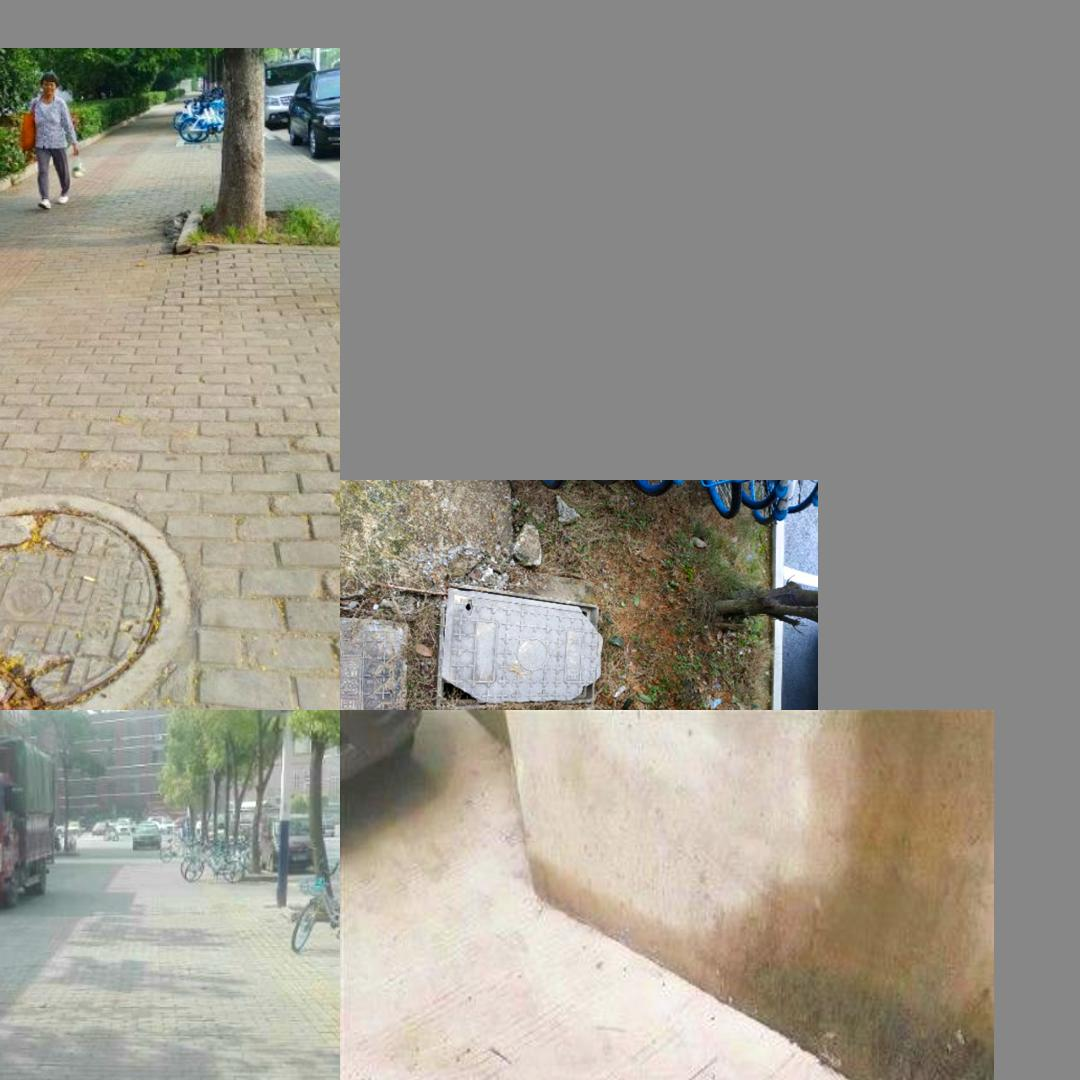broke: (0, 492, 192, 710), (432, 602, 607, 703)
